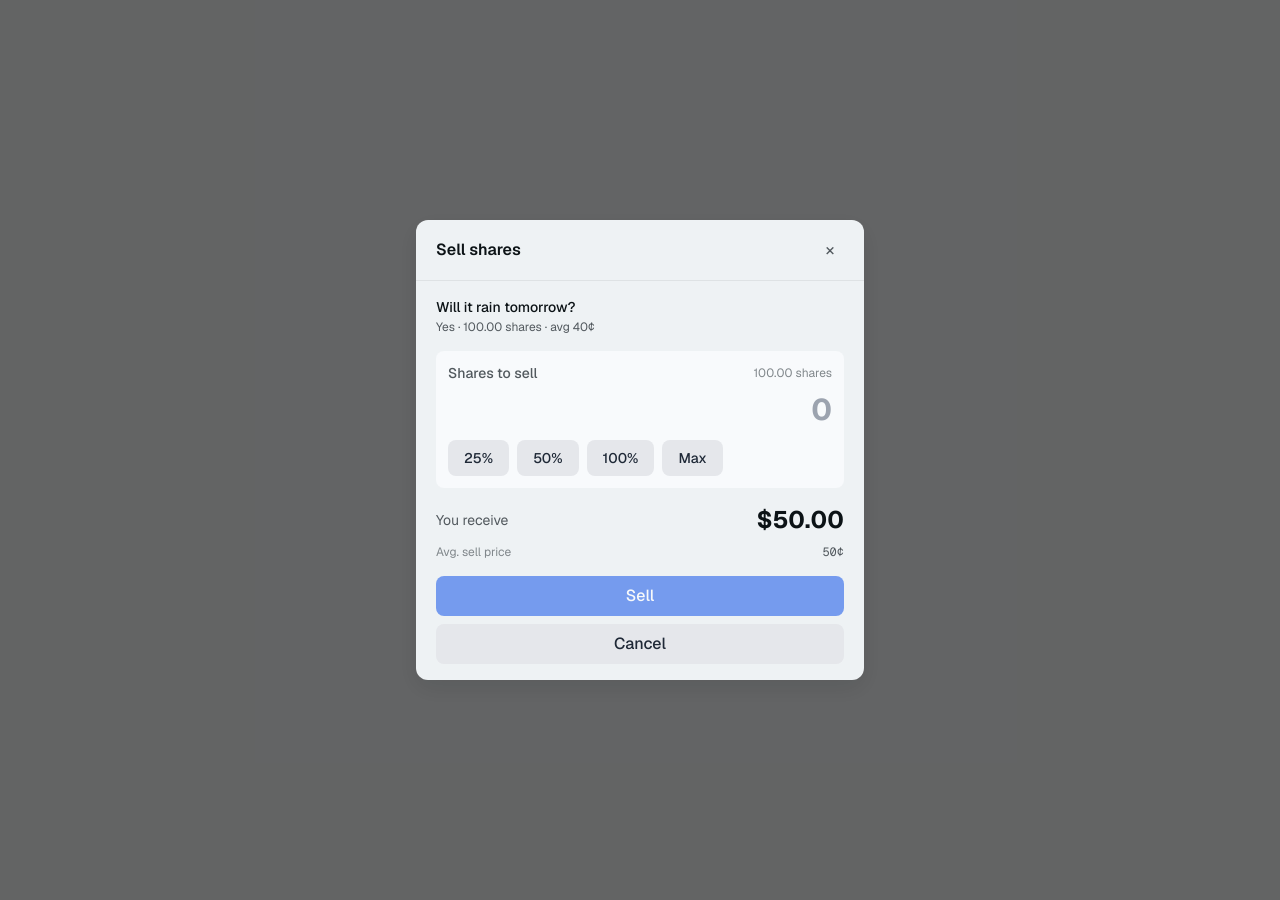
Test: SellSlip › surfaces the drift error when sell_position rejects with P0002
The width and height of the screenshot is (1280, 900).
In the field labelled "Shares to sell": (640, 410) [448, 391, 832, 428], type "100"
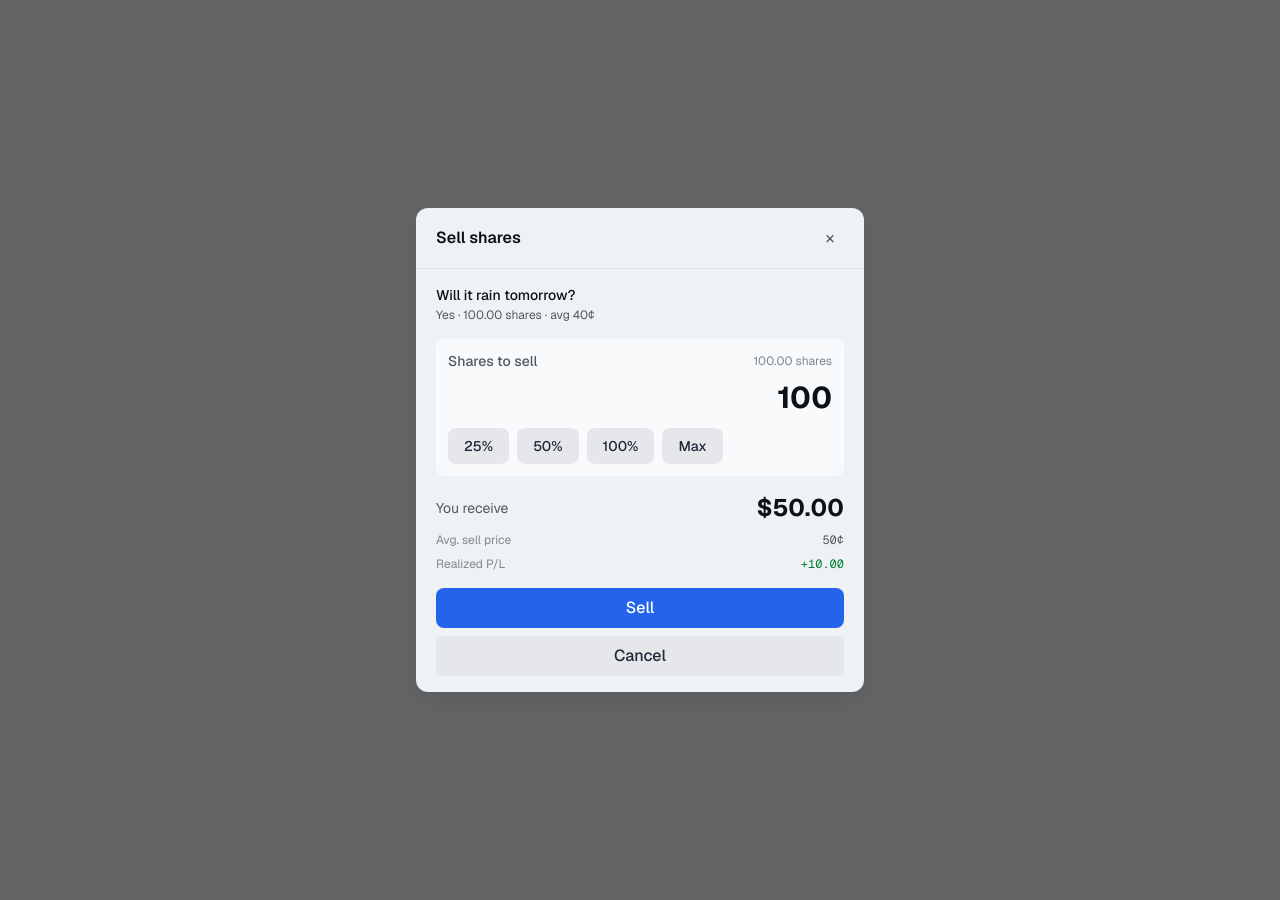
Click the button "Sell": (640, 608) [436, 588, 844, 628]
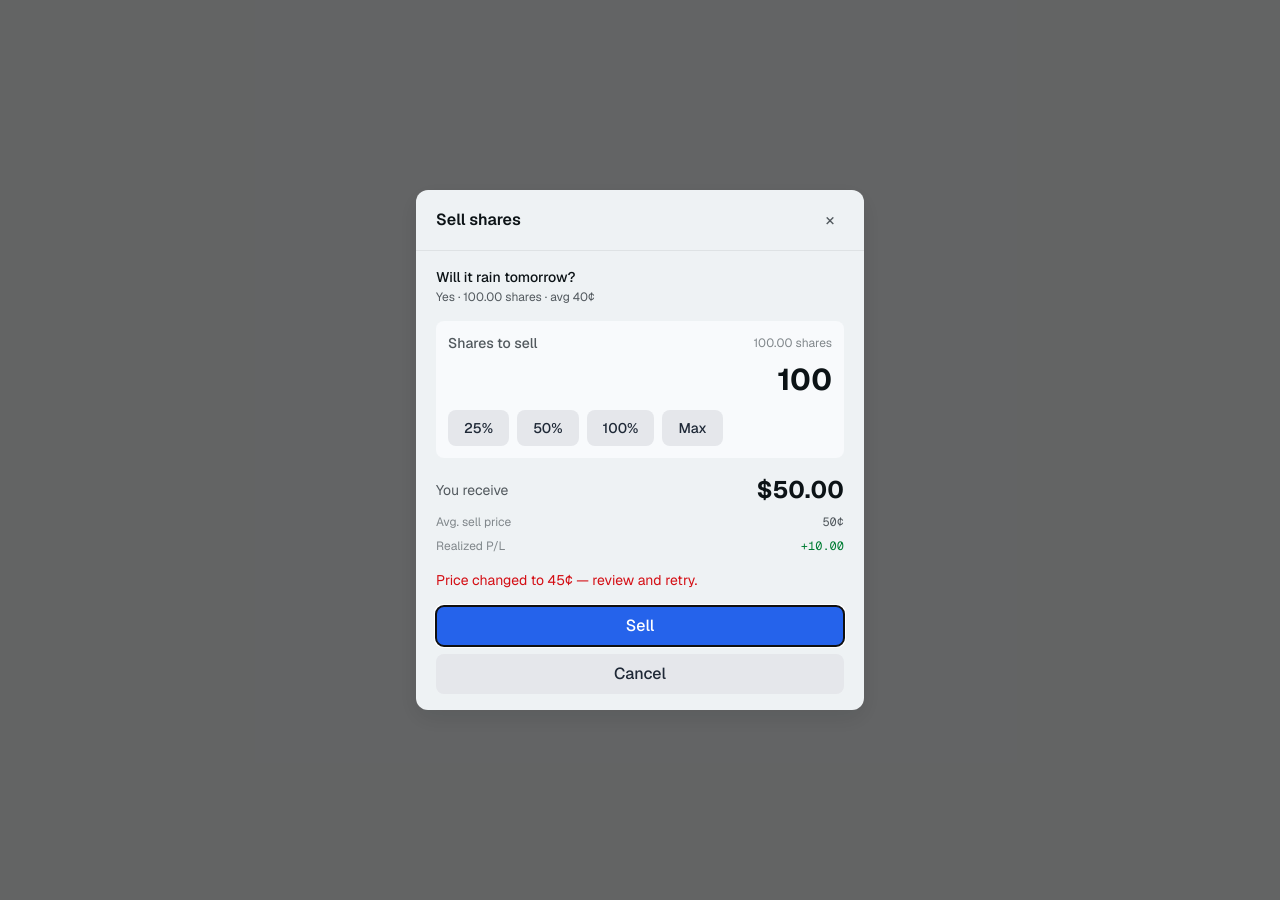
expect the text "Price changed to 45¢ — review and retry." is shown: met, box [436, 571, 697, 589]
